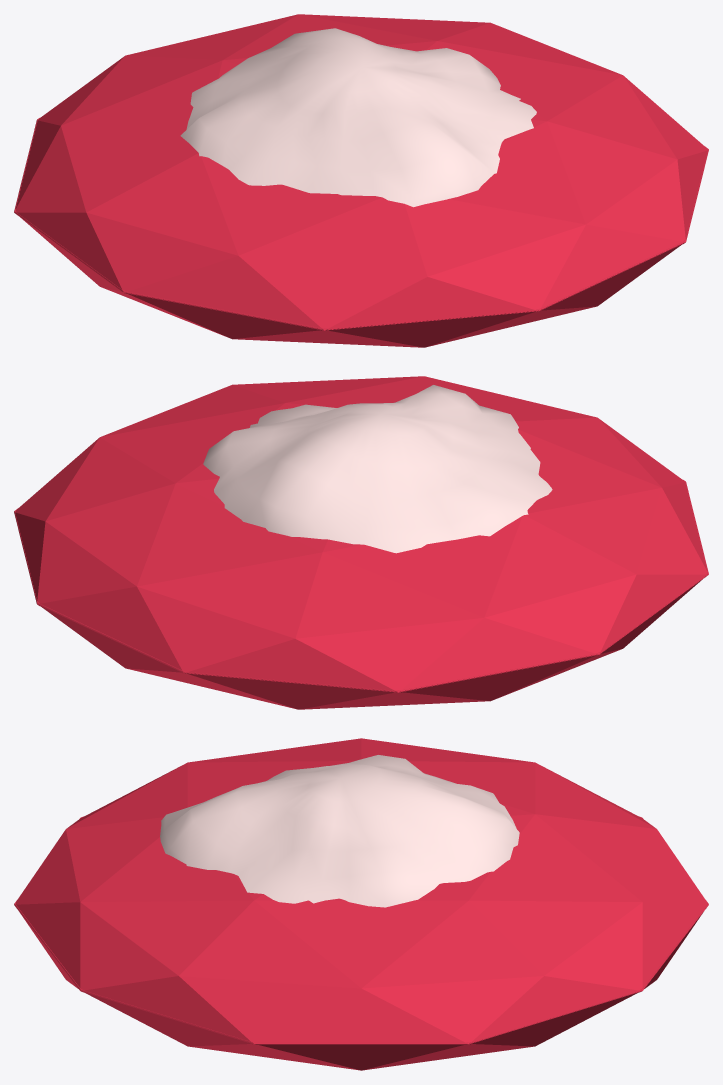
The model's file is steakSalt.gltf.
3 renders of one model, top to bottom at view 1: azimuth 30°, elevation 25°; view 2: azimuth 150°, elevation 25°; view 3: azimuth 270°, elevation 25°, orthographic. The views are drawn at different scales.
Parts seen in each view (by area): view 1: bovenkant, Sphere, onderkant; view 2: bovenkant, Sphere, onderkant; view 3: bovenkant, Sphere, onderkant.
Boxes of the visible parts, x1,y1,x2,y2 form: bovenkant: (14, 14, 708, 330); Sphere: (180, 28, 536, 207); onderkant: (14, 118, 708, 347); bovenkant: (14, 376, 708, 692); Sphere: (203, 385, 552, 553); onderkant: (14, 480, 708, 709); bovenkant: (14, 738, 708, 1044); Sphere: (160, 755, 519, 907); onderkant: (14, 816, 708, 1070).
Bounding box in the file's own units: 1.24 × 0.414 × 1.3.
